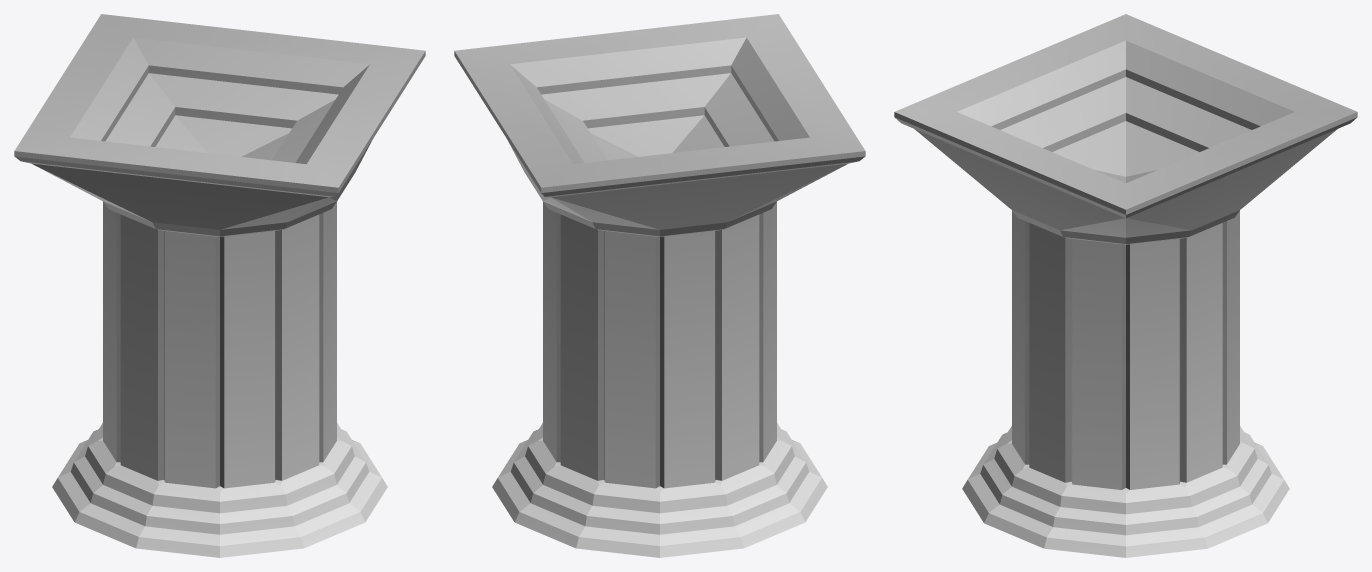
File: PROP_006_Pedestal.fbx
3 views of the same model, side by side, from view 1: azimuth 30°, elevation 25°; view 2: azimuth 150°, elevation 25°; view 3: azimuth 270°, elevation 25° (orthographic). The views are drawn at different scales.
Parts seen in each view (by area): view 1: PROP_006_Pedestal; view 2: PROP_006_Pedestal; view 3: PROP_006_Pedestal.
Part boxes in pixels (x1,y1,x2,y2): PROP_006_Pedestal: (14, 14, 425, 557); PROP_006_Pedestal: (454, 14, 865, 557); PROP_006_Pedestal: (894, 14, 1357, 557).
Size of the model in its own units: 10.25 by 9.2 by 10.25.
